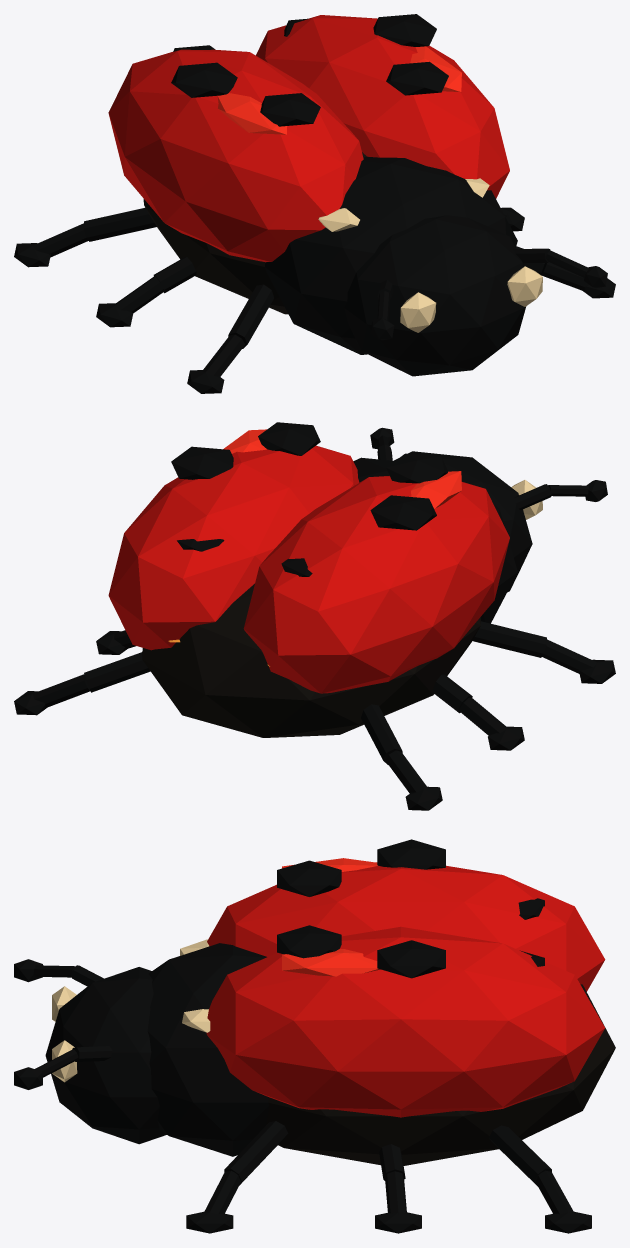
The model's file is Ladybug.glb.
3 views of the same model, one above another, from view 1: azimuth 30°, elevation 25°; view 2: azimuth 150°, elevation 25°; view 3: azimuth 270°, elevation 25° (orthographic). The views are drawn at different scales.
Visible parts, largest first — view 1: Ladybug_Elytra_R, Ladybug_Elytra_L, Ladybug_Head, Ladybug_Thorax, Ladybug_Abdomen, Ladybug_Leg_R3, Ladybug_Leg_R1, Ladybug_Leg_R2, Ladybug_ElytraSpot_R2, Ladybug_ElytraSpot_L1, Ladybug_ElytraHighlight_R, Ladybug_ElytraSpot_L2 (+8 smaller); view 2: Ladybug_Elytra_R, Ladybug_Elytra_L, Ladybug_Abdomen, Ladybug_Head, Ladybug_Leg_R1, Ladybug_Leg_L3, Ladybug_Leg_R3, Ladybug_Leg_R2, Ladybug_ElytraSpot_R2, Ladybug_ElytraSpot_L2, Ladybug_Thorax, Ladybug_ElytraSpot_L1 (+6 smaller); view 3: Ladybug_Elytra_L, Ladybug_Elytra_R, Ladybug_Thorax, Ladybug_Abdomen, Ladybug_Head, Ladybug_Leg_L1, Ladybug_Leg_L3, Ladybug_Leg_L2, Ladybug_ElytraSpot_L2, Ladybug_ElytraHighlight_L, Ladybug_ElytraSpot_R1, Ladybug_ElytraSpot_R2 (+5 smaller).
Boxes of the visible parts, x1,y1,x2,y2 form: Ladybug_Elytra_R: (108,49,363,262); Ladybug_Elytra_L: (256,15,509,198); Ladybug_Head: (344,215,526,376); Ladybug_Thorax: (265,156,517,354); Ladybug_Abdomen: (143,152,366,314); Ladybug_Leg_R3: (14,208,156,267); Ladybug_Leg_R1: (187,284,273,393); Ladybug_Leg_R2: (96,257,196,327); Ladybug_ElytraSpot_R2: (171,62,237,97); Ladybug_ElytraSpot_L1: (386,61,448,95); Ladybug_ElytraHighlight_R: (217,93,287,134); Ladybug_ElytraSpot_L2: (373,14,436,46); Ladybug_Elytra_R: (243,476,509,693); Ladybug_Elytra_L: (108,445,359,650); Ladybug_Abdomen: (142,583,480,737); Ladybug_Head: (393,451,532,592); Ladybug_Leg_R1: (472,621,615,683); Ladybug_Leg_L3: (14,652,150,715); Ladybug_Leg_R3: (361,704,442,810); Ladybug_Leg_R2: (432,674,524,750); Ladybug_ElytraSpot_R2: (370,495,436,530); Ladybug_ElytraSpot_L2: (171,446,233,479); Ladybug_Thorax: (353,457,517,623); Ladybug_ElytraSpot_L1: (258,422,320,455); Ladybug_Elytra_L: (206,926,604,1117); Ladybug_Elytra_R: (207,862,605,991); Ladybug_Thorax: (147,943,269,1156); Ladybug_Abdomen: (266,984,615,1165); Ladybug_Head: (45,967,166,1144); Ladybug_Leg_L1: (186,1121,288,1233); Ladybug_Leg_L3: (488,1125,591,1233); Ladybug_Leg_L2: (375,1144,421,1233); Ladybug_ElytraSpot_L2: (377,940,445,978); Ladybug_ElytraHighlight_L: (282,949,380,976); Ladybug_ElytraSpot_R1: (277,860,341,896); Ladybug_ElytraSpot_R2: (377,839,445,869).
Bounding box in the file's own units: 1.18 × 0.637 × 1.41.
